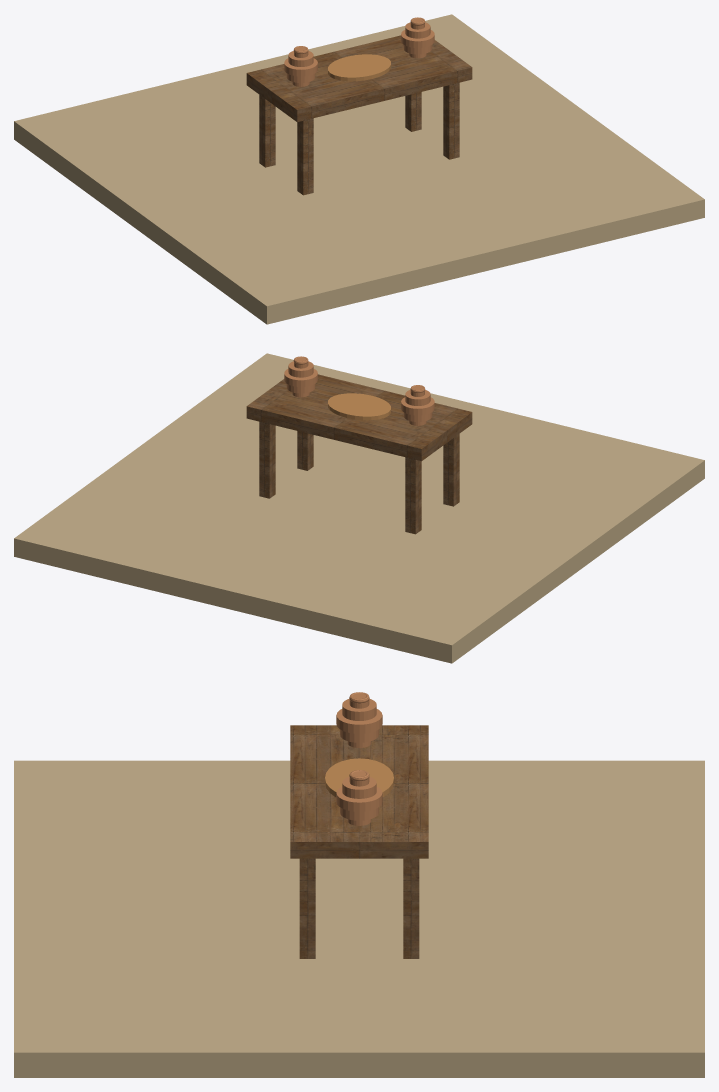
Rendered from banquete.glb.
The picture shows the model from 3 angles, top to bottom: view 1: azimuth 30°, elevation 25°; view 2: azimuth 150°, elevation 25°; view 3: azimuth 270°, elevation 25°; orthographic projection. The views are drawn at different scales.
Visible parts, largest first — view 1: Base ilustrativa, Tampo, Travessa, Pé.001, Pé.003, Pé, Pé.002; view 2: Base ilustrativa, Tampo, Travessa, Pé, Pé.002, Pé.001, Pé.003; view 3: Base ilustrativa, Tampo, Pé.002, Pé.003, Travessa, Parede do recipiente.002, Parede do recipiente.007.
Boxes of the visible parts, x1=… form: Base ilustrativa: x1=14, y1=14, x2=704, y2=324; Tampo: x1=246, y1=35, x2=472, y2=122; Travessa: x1=328, y1=54, x2=390, y2=81; Pé.001: x1=297, y1=118, x2=313, y2=195; Pé.003: x1=443, y1=82, x2=459, y2=159; Pé: x1=259, y1=95, x2=275, y2=167; Pé.002: x1=405, y1=92, x2=421, y2=131; Base ilustrativa: x1=14, y1=353, x2=704, y2=663; Tampo: x1=246, y1=374, x2=472, y2=461; Travessa: x1=328, y1=393, x2=390, y2=420; Pé: x1=405, y1=457, x2=421, y2=534; Pé.002: x1=259, y1=421, x2=275, y2=498; Pé.001: x1=443, y1=434, x2=459, y2=506; Pé.003: x1=297, y1=431, x2=313, y2=470; Base ilustrativa: x1=14, y1=760, x2=704, y2=1077; Tampo: x1=290, y1=725, x2=428, y2=858; Pé.002: x1=403, y1=858, x2=419, y2=958; Pé.003: x1=299, y1=858, x2=315, y2=958; Travessa: x1=325, y1=758, x2=393, y2=796; Parede do recipiente.002: x1=336, y1=709, x2=382, y2=733; Parede do recipiente.007: x1=336, y1=787, x2=382, y2=811.
Size of the model in its own units: 6 by 1.89 by 6.
4 materials, 1 textured.
